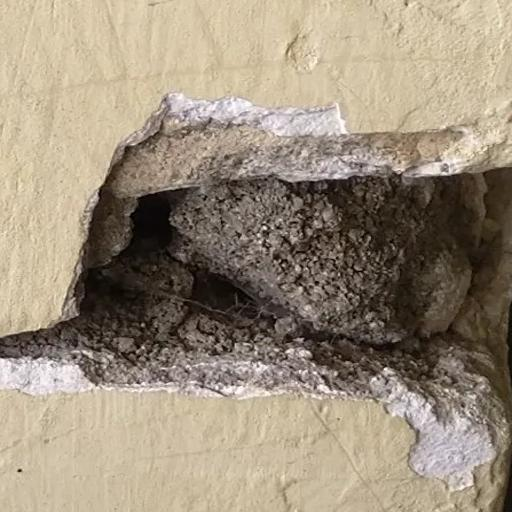spalling: (53, 77, 512, 460)
